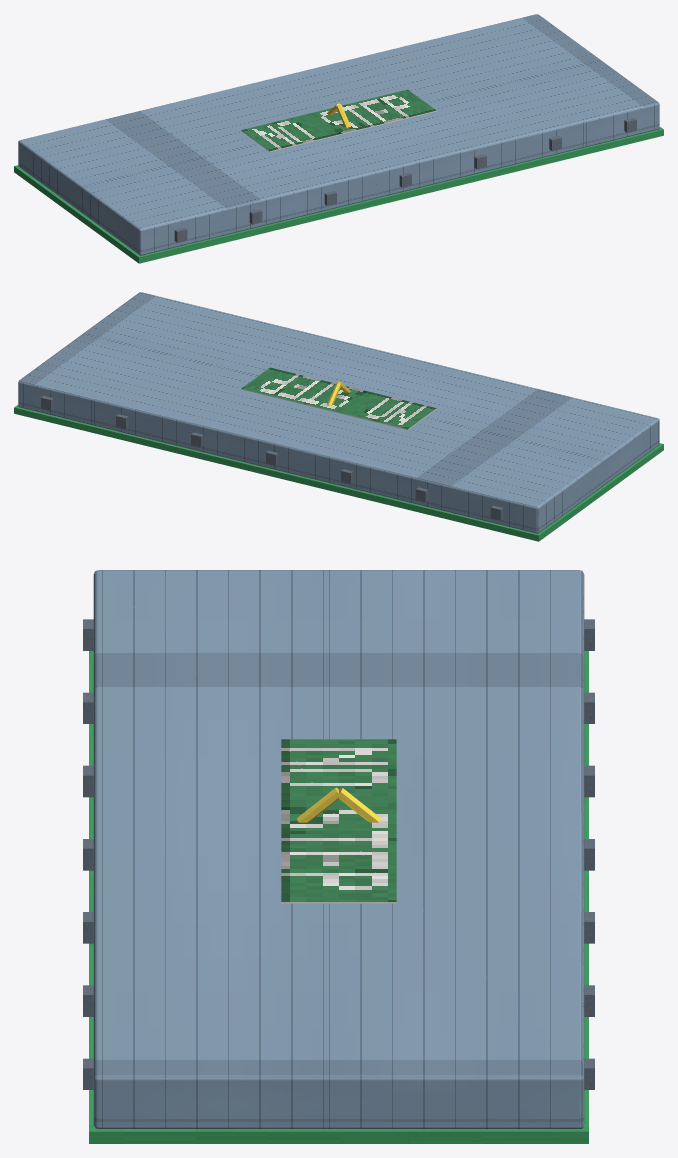
The model's file is p_wreck_hatch.glb.
The picture shows the model from 3 angles, top to bottom: view 1: azimuth 30°, elevation 25°; view 2: azimuth 150°, elevation 25°; view 3: azimuth 270°, elevation 25°; orthographic projection. The views are drawn at different scales.
Visible parts, largest first — view 1: p_wreck_hatch_lod0; view 2: p_wreck_hatch_lod0; view 3: p_wreck_hatch_lod0.
Part boxes in pixels (<box>): p_wreck_hatch_lod0: <box>14,14,663,263</box>; p_wreck_hatch_lod0: <box>14,292,663,541</box>; p_wreck_hatch_lod0: <box>83,570,594,1143</box>.
Size of what is drawn, in the model's own units: 12.6 by 1.15 by 5.32.
1 material, 1 textured.
